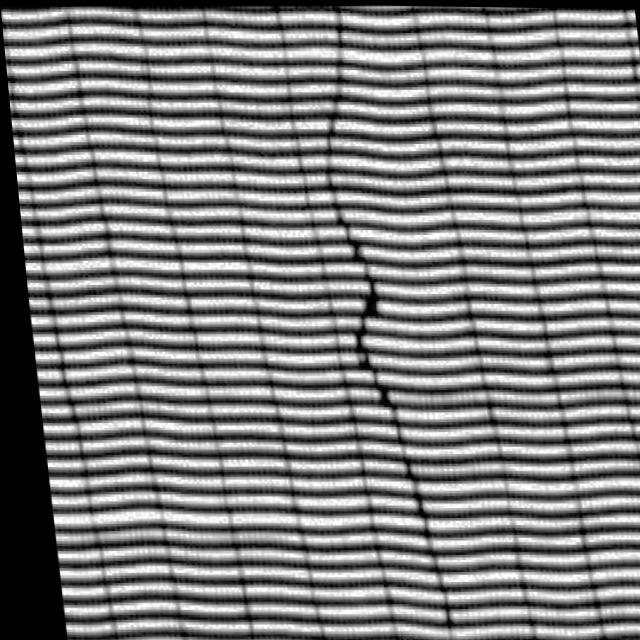Stitch: (288, 37, 456, 576)
